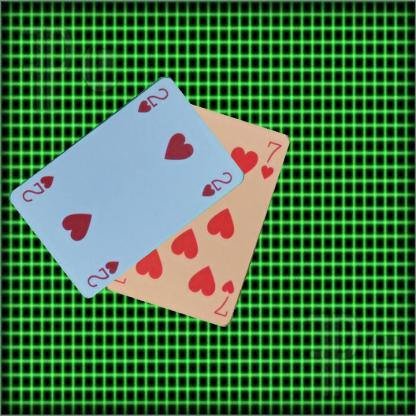2h: (84, 257, 121, 288), (134, 84, 170, 114)
7h: (211, 277, 236, 319)
